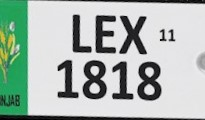1: (56, 59, 80, 99), (110, 60, 134, 100), (158, 28, 167, 42), (167, 28, 176, 42)
8: (136, 60, 164, 101), (82, 59, 108, 100)
E: (94, 13, 118, 54)
L: (68, 13, 93, 55)
X: (119, 13, 149, 55)
